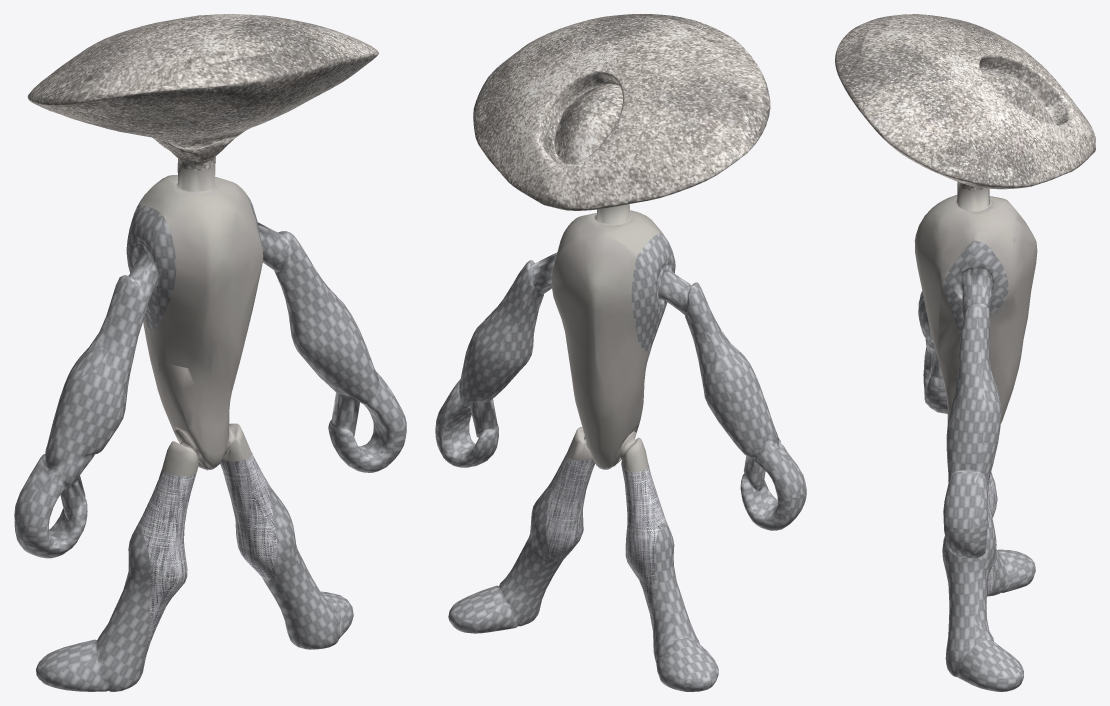
Rendered from 20-lume--robotic_figure_3d_model.glb.
The picture shows the model from 3 angles, left to right: view 1: azimuth 30°, elevation 25°; view 2: azimuth 150°, elevation 25°; view 3: azimuth 270°, elevation 25°; orthographic projection. The views are drawn at different scales.
Visible parts, largest first — view 1: arms_mesh, head_mesh, body_mesh, feet_mesh; view 2: head_mesh, arms_mesh, body_mesh, feet_mesh; view 3: head_mesh, arms_mesh, body_mesh, feet_mesh.
Part boxes in pixels (bbox=[...]): arms_mesh: bbox=[14, 194, 406, 691]; head_mesh: bbox=[27, 14, 378, 170]; body_mesh: bbox=[138, 163, 263, 476]; feet_mesh: bbox=[132, 452, 277, 672]; head_mesh: bbox=[473, 14, 770, 210]; arms_mesh: bbox=[435, 233, 806, 691]; body_mesh: bbox=[551, 204, 664, 472]; feet_mesh: bbox=[546, 452, 669, 646]; head_mesh: bbox=[835, 14, 1095, 190]; arms_mesh: bbox=[918, 240, 1035, 691]; body_mesh: bbox=[914, 185, 1037, 423]; feet_mesh: bbox=[987, 472, 997, 594].
Bounding box in the file's own units: 1.88 × 3 × 1.23.
Materials: 4 (4 with a texture image).
